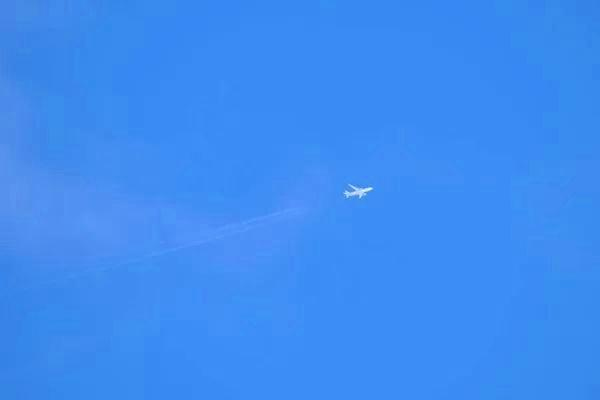Plane: (327, 175, 386, 206)
